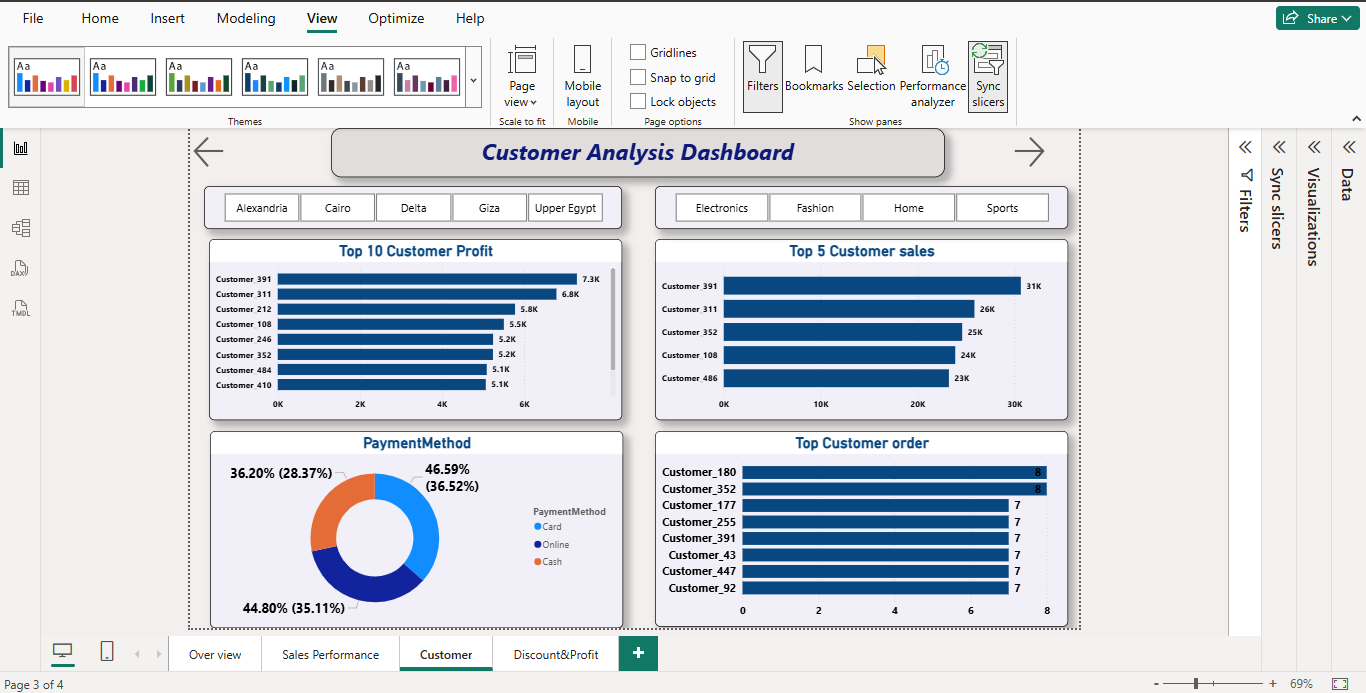

This screenshot's page, from the dashboard's own definition file:
{"tool":"powerbi","page":{"name":"Customer","canvas":[1280,720],"ordinal":2},"visuals":[{"type":"textbox","box":[203.3,0,883.6,70.6],"z":0},{"type":"clusteredBarChart","title":"Top Customer order ","fields":{"Category":["sales_dataset.CustomerName"],"Y":["sales_dataset.Total Order"]},"box":[670.2,436.7,594.6,282.2],"z":1000},{"type":"donutChart","title":"PaymentMethod","fields":{"Category":["sales_dataset.PaymentMethod"],"Y":["Divide(Count(sales_dataset.CustomerName), ScopedEval(Count(sales_dataset.CustomerName), []))"]},"box":[28.6,436.7,594.6,283.9],"z":2000},{"type":"clusteredBarChart","title":"Top 5 Customer sales","fields":{"Category":["sales_dataset.CustomerName"],"Y":["sales_dataset.Total Sales"]},"box":[669.6,159.8,594.7,260.6],"z":3000},{"type":"slicer","fields":{"Values":["sales_dataset.Region"]},"box":[20.2,83.5,601.9,61.9],"z":4000},{"type":"slicer","fields":{"Values":["sales_dataset.Category"]},"box":[669.6,83.5,594.7,61.9],"z":5000},{"type":"actionButton","box":[1180.8,7.2,99.4,54.7],"z":6000},{"type":"actionButton","box":[0,7.2,99.4,54.7],"z":7000},{"type":"clusteredBarChart","title":"Top 10 Customer Profit ","fields":{"Category":["sales_dataset.CustomerName"],"Y":["Sum(sales_dataset.Profit)"]},"box":[27.4,159.8,594.7,260.6],"z":8000}]}

Visuals, with their boxes on the page's 1280x720 design canvas (x1, y1, x2, y2). These are canvas units, not pixel positions in the 1366x693 screenshot, which may show the page scaled, cropped or inside an application window:
textbox: [203,0,1087,71]
"Top Customer order " clusteredBarChart: [670,437,1265,719]
"PaymentMethod" donutChart: [29,437,623,721]
"Top 5 Customer sales" clusteredBarChart: [670,160,1264,420]
slicer - sales_dataset.Region: [20,84,622,145]
slicer - sales_dataset.Category: [670,84,1264,145]
actionButton: [1181,7,1280,62]
actionButton: [0,7,99,62]
"Top 10 Customer Profit " clusteredBarChart: [27,160,622,420]
